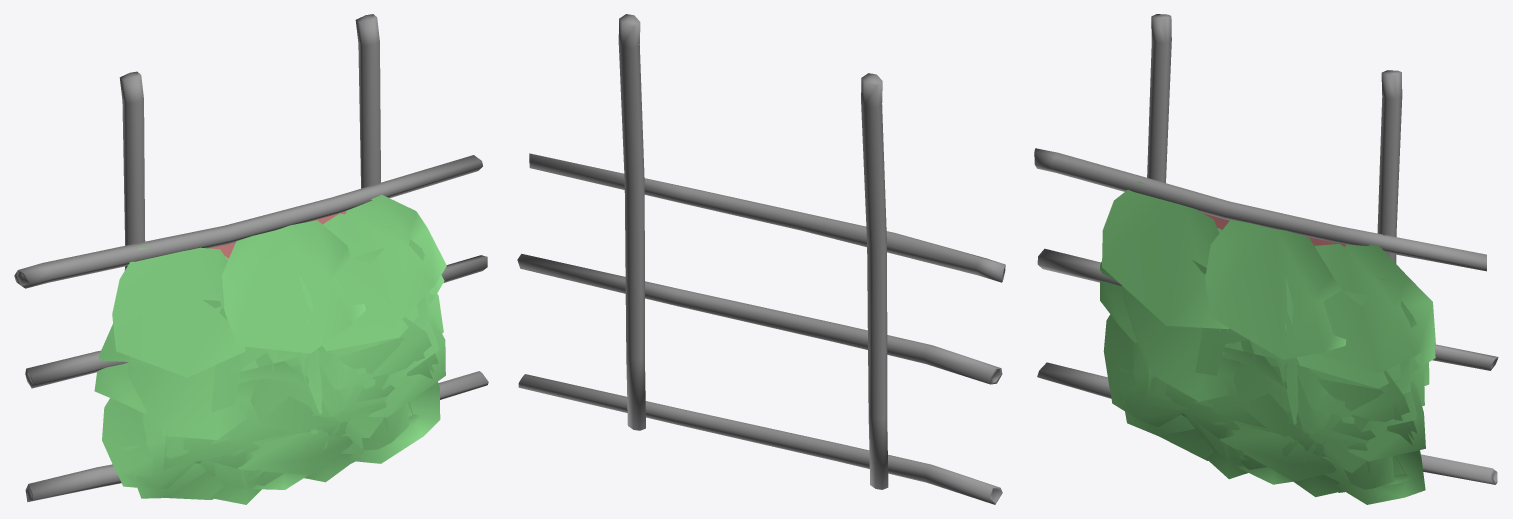
Rendered from SM_village_hut_small_door_A.gltf.
3 views of the same model, side by side, from view 1: azimuth 30°, elevation 25°; view 2: azimuth 150°, elevation 25°; view 3: azimuth 330°, elevation 25° (orthographic). The views are drawn at different scales.
Parts seen in each view (by area): view 1: SM_village_hut_small_door_A; view 2: SM_village_hut_small_door_A; view 3: SM_village_hut_small_door_A.
Boxes of the visible parts, box(x1,y1,x2,y2) form: SM_village_hut_small_door_A: box(14, 14, 488, 504); SM_village_hut_small_door_A: box(517, 14, 1005, 504); SM_village_hut_small_door_A: box(1034, 14, 1498, 504).
Size of the model in its own units: 4.13 by 3.66 by 0.4808.
